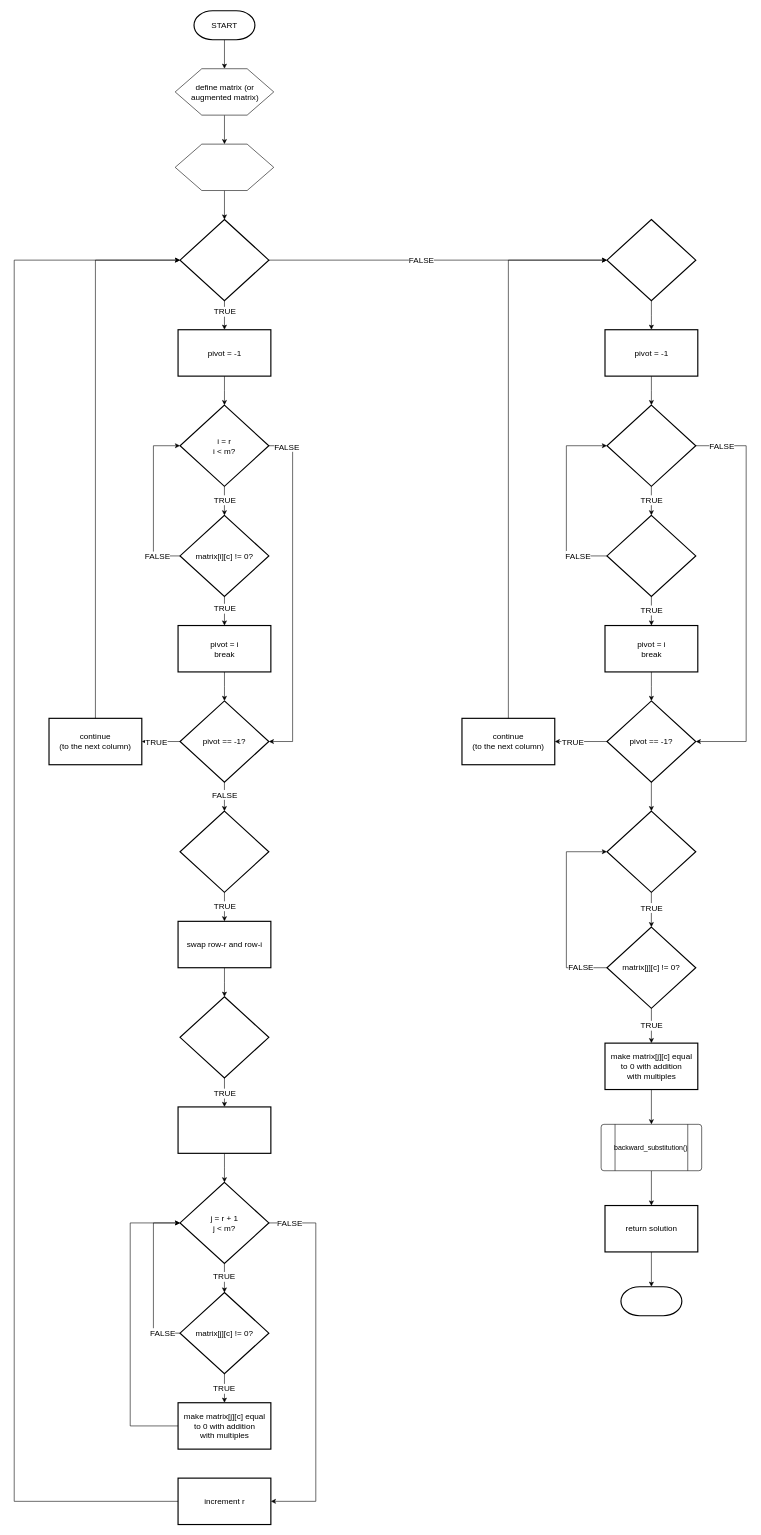
This 761x1535 diagram has some shape labels left out. Here are the shapes that lost their labels. From the top down, the centre of each, then its label:
pixel 224 167: r = 0 m = row size n = col size
pixel 224 260: c = 0 c < n?
pixel 651 260: c = n - 1 c >= 0?
pixel 651 445: i = m - 1 i >= 0?
pixel 651 555: matrix[i][c] == 1?
pixel 224 851: pivot != r?
pixel 651 851: j = pivot - 1 j >= 0?
pixel 224 1037: matrix[r][c] != 1?
pixel 224 1130: make matrix[r][c] equal to 1 with scalar multiplication
pixel 651 1301: END
